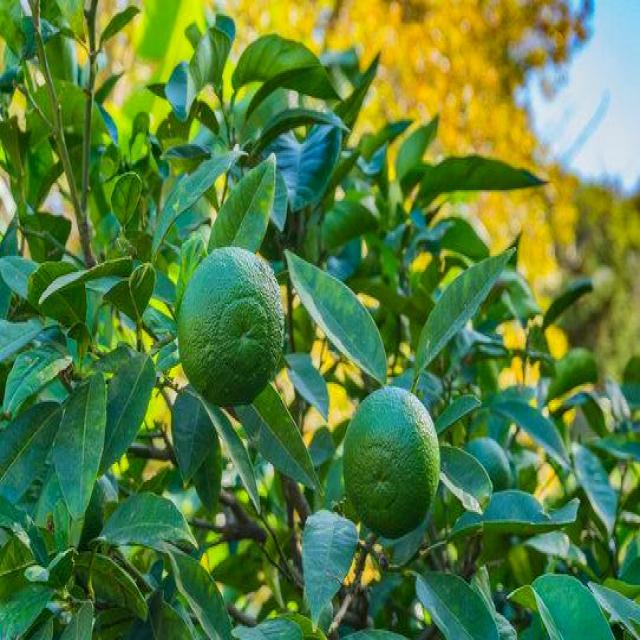Jeruk Belum Matang: (178, 247, 287, 409), (344, 388, 442, 542)
